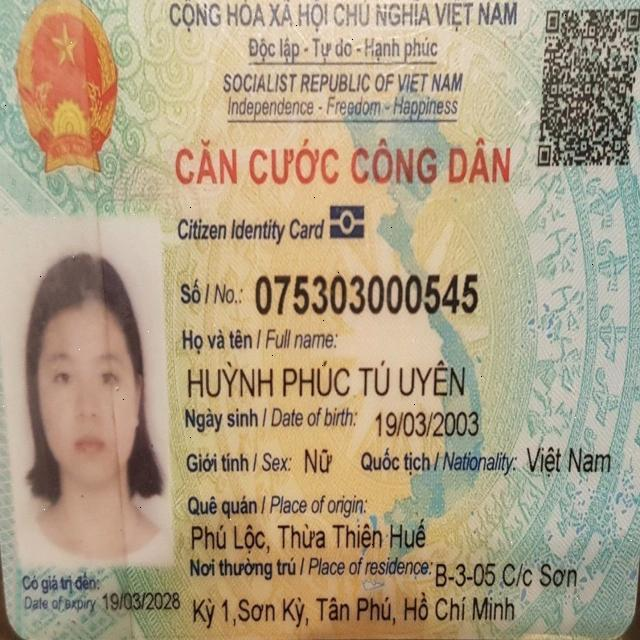current_place: (190, 588, 518, 632), (432, 558, 581, 593)
dob: (373, 407, 482, 442)
expire_date: (100, 588, 183, 614)
gender: (302, 442, 334, 480)
id: (250, 266, 483, 320)
name: (183, 357, 469, 402)
nationality: (523, 441, 613, 481)
origin_place: (188, 515, 428, 557)
qr: (535, 5, 640, 171)
